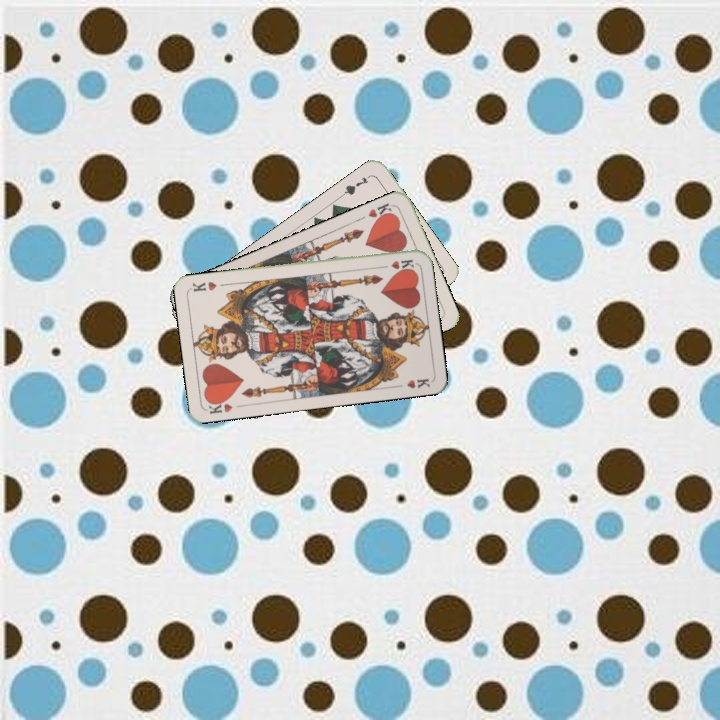G7: (338, 171, 373, 199)
HK: (364, 199, 396, 224), (376, 255, 417, 272), (203, 395, 235, 416)
